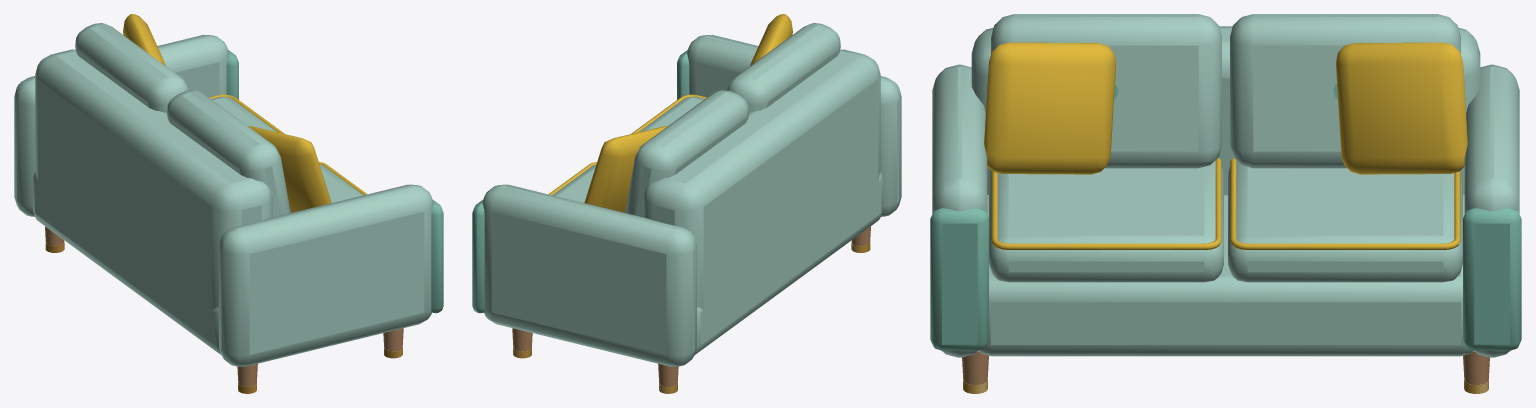
The model's file is sofa.glb.
The picture shows the model from 3 angles, left to right: view 1: azimuth 30°, elevation 25°; view 2: azimuth 150°, elevation 25°; view 3: azimuth 270°, elevation 25°; orthographic projection. The views are drawn at different scales.
Visible parts, largest first — view 1: Sofa; view 2: Sofa; view 3: Sofa.
Part boxes in pixels (x1,y1,x2,y2): Sofa: (14, 14, 443, 393); Sofa: (472, 14, 901, 393); Sofa: (930, 14, 1521, 393).
Bounding box in the file's own units: 0.82 × 0.8367 × 1.51.
